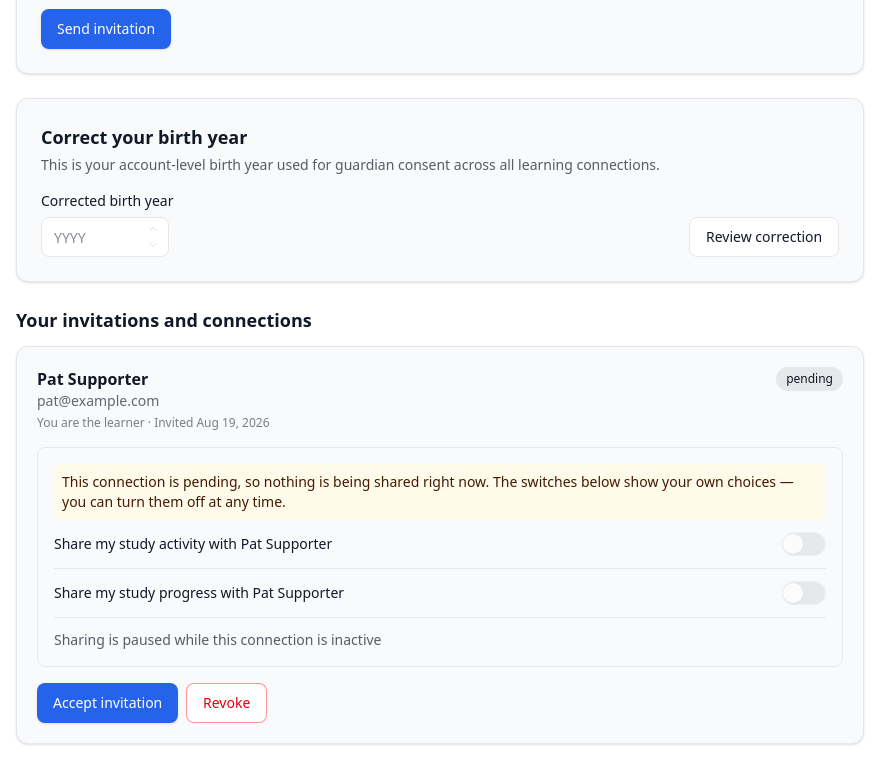
Test case: accepts an incoming invitation
The width and height of the screenshot is (881, 768).
(page scrolled)
Click the button "Accept invitation" at (108, 703), box [37, 683, 178, 723]
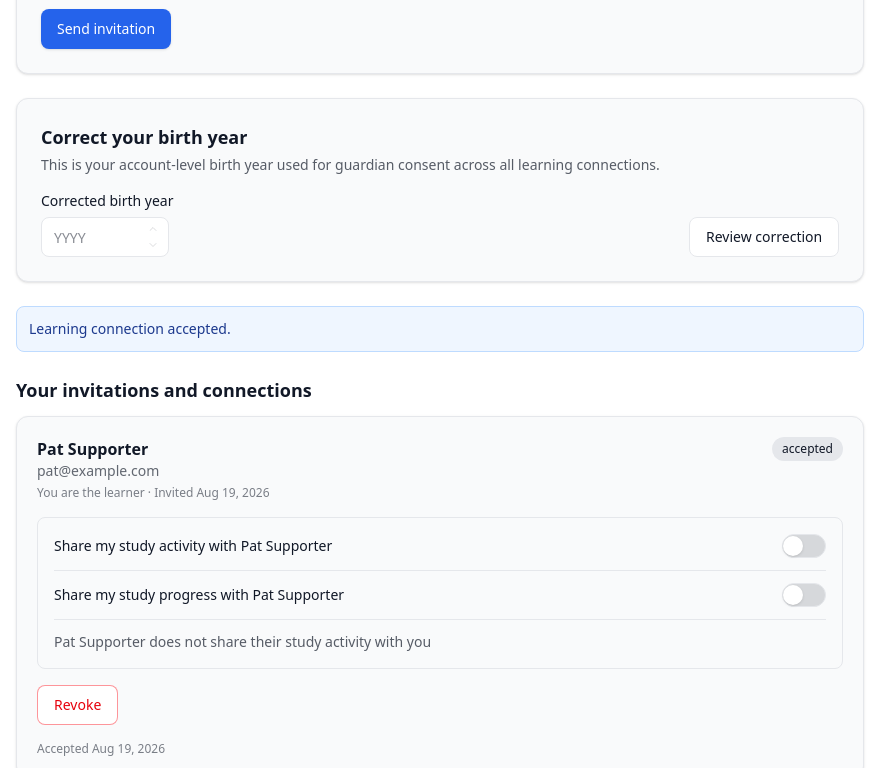
Check: the text "accepted" is shown, box [772, 437, 843, 461]
